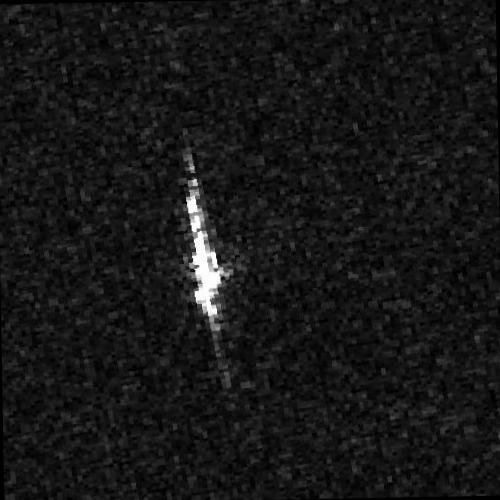ship: (186, 172, 227, 333)
